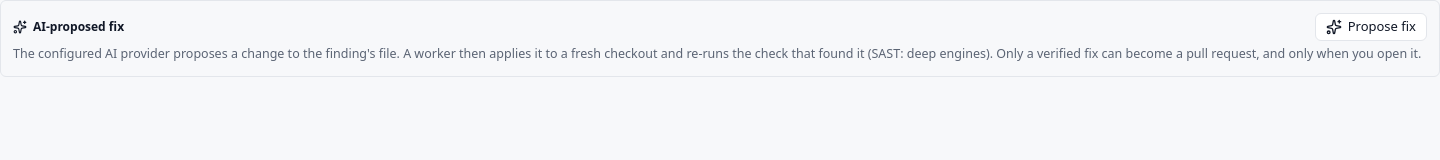
Test: AI-proposed fixes › shows request errors such as the rate limit
This screenshot has width=1440, height=160.
Click the button "Propose fix": click(1371, 27) x1=1315 y1=13 x2=1427 y2=41
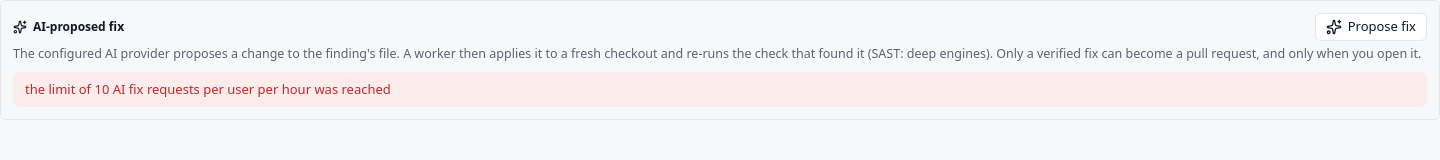
Expected: the text "the limit of 10 AI fix requests per user per hour was reached" is shown, x1=13 y1=72 x2=1427 y2=107
